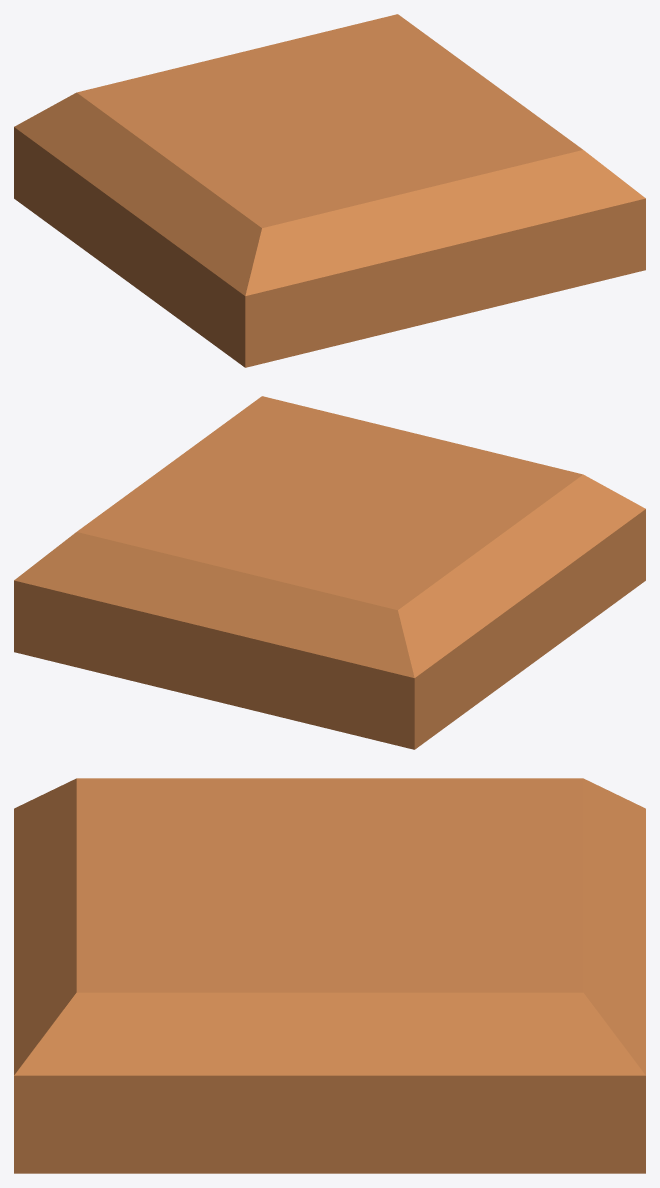
The model's file is PRP_Button.fbx.
3 views of the same model, one above another, from view 1: azimuth 30°, elevation 25°; view 2: azimuth 150°, elevation 25°; view 3: azimuth 270°, elevation 25° (orthographic). The views are drawn at different scales.
Visible parts, largest first — view 1: pCube103; view 2: pCube103; view 3: pCube103.
Boxes of the visible parts, x1,y1,x2,y2 form: pCube103: [14, 14, 645, 367]; pCube103: [14, 396, 645, 749]; pCube103: [14, 778, 645, 1173].
Size of the model in its own units: 0.1979 by 0.0534 by 0.1979.
